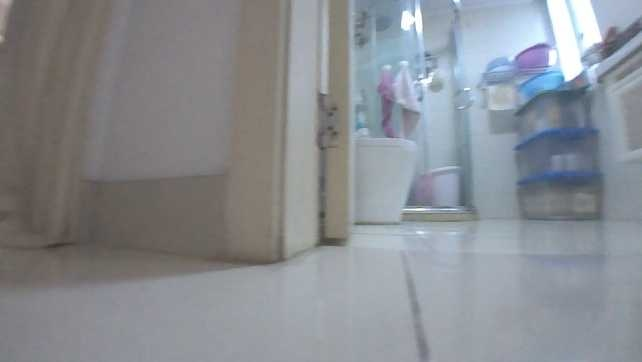toilet: (353, 135, 420, 226)
